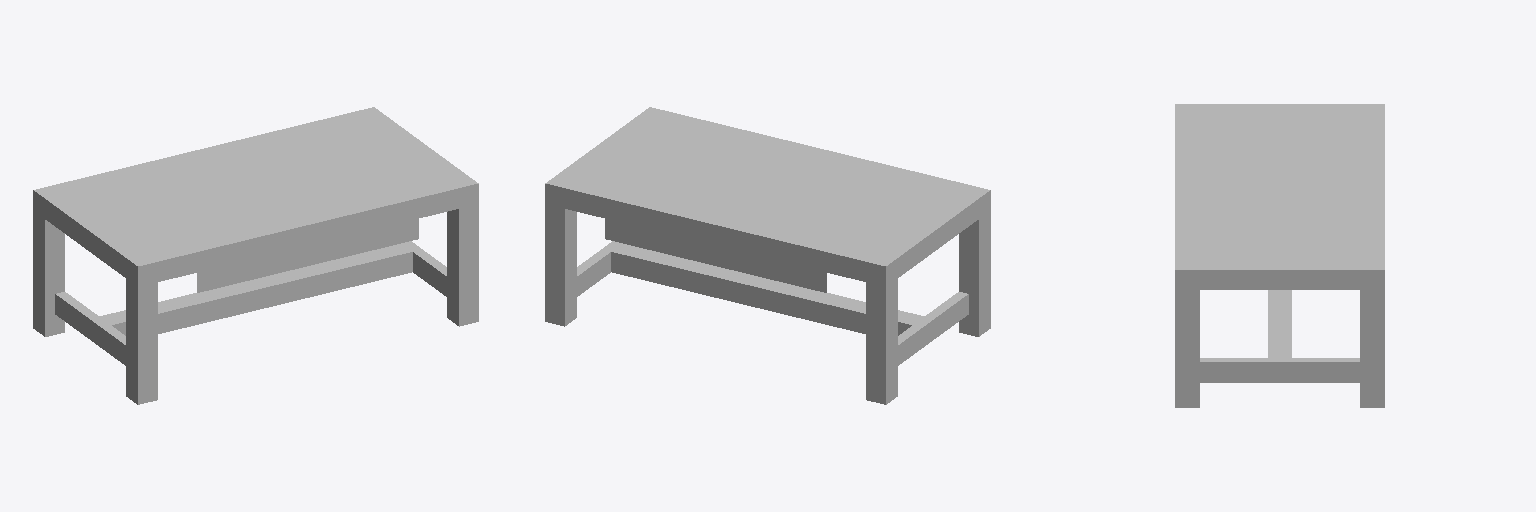
Rendered from table red wood.obj.
3 renders of one model, left to right at view 1: azimuth 30°, elevation 25°; view 2: azimuth 150°, elevation 25°; view 3: azimuth 270°, elevation 25°, orthographic.
Parts seen in each view (by area): view 1: tableCloth; view 2: tableCloth; view 3: tableCloth.
Boxes of the visible parts, box(x1,y1,x2,y2) form: tableCloth: box(33, 107, 478, 404); tableCloth: box(545, 107, 990, 404); tableCloth: box(1175, 104, 1384, 407).
Bounding box in the file's own units: 0.8415 × 0.3267 × 0.4474.